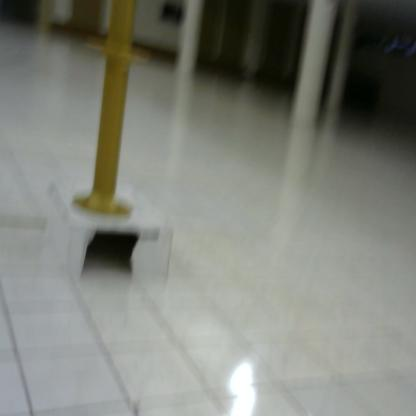pole: (68, 1, 158, 229)
